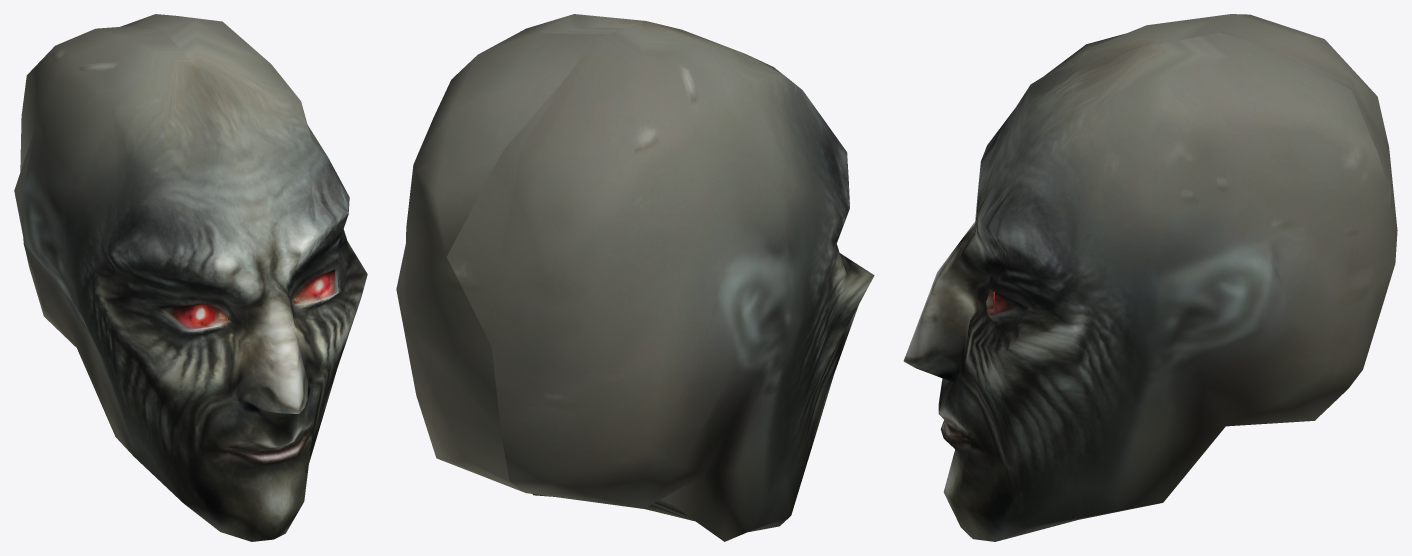
File: b_n_dark elf_m_head_15.glb
3 renders of one model, left to right at view 1: azimuth 30°, elevation 25°; view 2: azimuth 150°, elevation 25°; view 3: azimuth 270°, elevation 25°, orthographic. The views are drawn at different scales.
Parts seen in each view (by area): view 1: Tri B_N_Dark Elf_M_Head_11; view 2: Tri B_N_Dark Elf_M_Head_11; view 3: Tri B_N_Dark Elf_M_Head_11.
Part boxes in pixels (<box>): Tri B_N_Dark Elf_M_Head_11: <box>14,14,367,541</box>; Tri B_N_Dark Elf_M_Head_11: <box>396,14,874,541</box>; Tri B_N_Dark Elf_M_Head_11: <box>903,14,1397,541</box>.
Bounding box in the file's own units: 0.093 × 0.1577 × 0.1421.
Materials: 1 (1 with a texture image).
